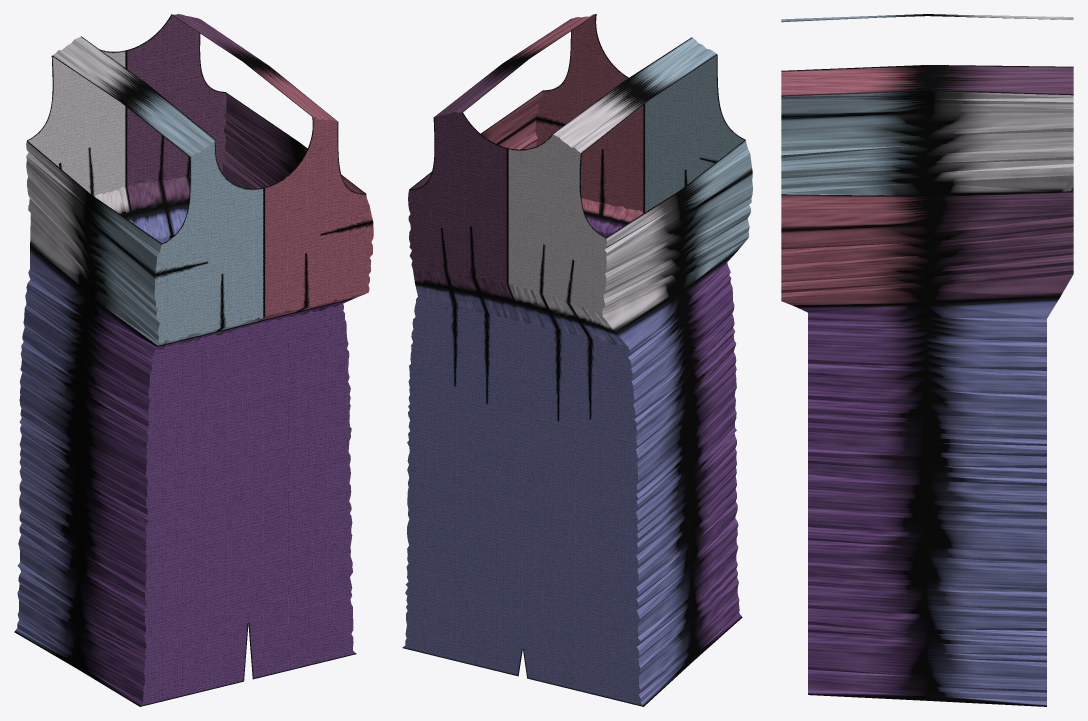
Rendered from valid_garment_wholebody_boxmesh.obj.
3 renders of one model, left to right at view 1: azimuth 30°, elevation 25°; view 2: azimuth 150°, elevation 25°; view 3: azimuth 270°, elevation 25°, orthographic. The views are drawn at different scales.
Size of the model in its own units: 56.14 by 126 by 55.
Materials: 1 (1 with a texture image).
